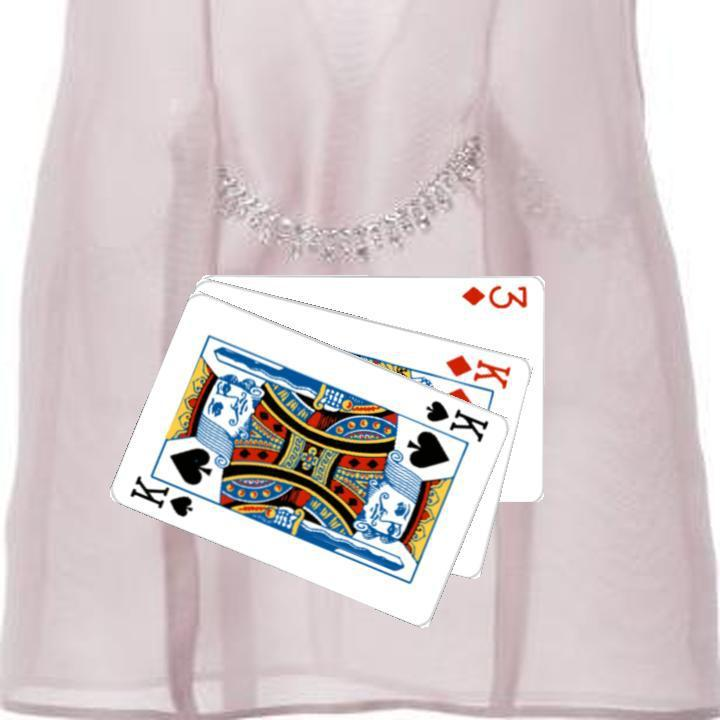3: (457, 280, 529, 310)
K: (126, 468, 207, 519), (421, 395, 492, 444), (441, 350, 514, 391)
